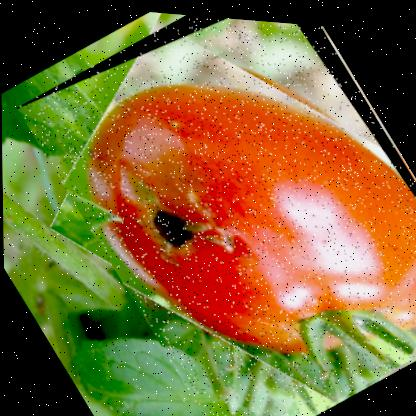tomato_rotten: (14, 0, 415, 415)
